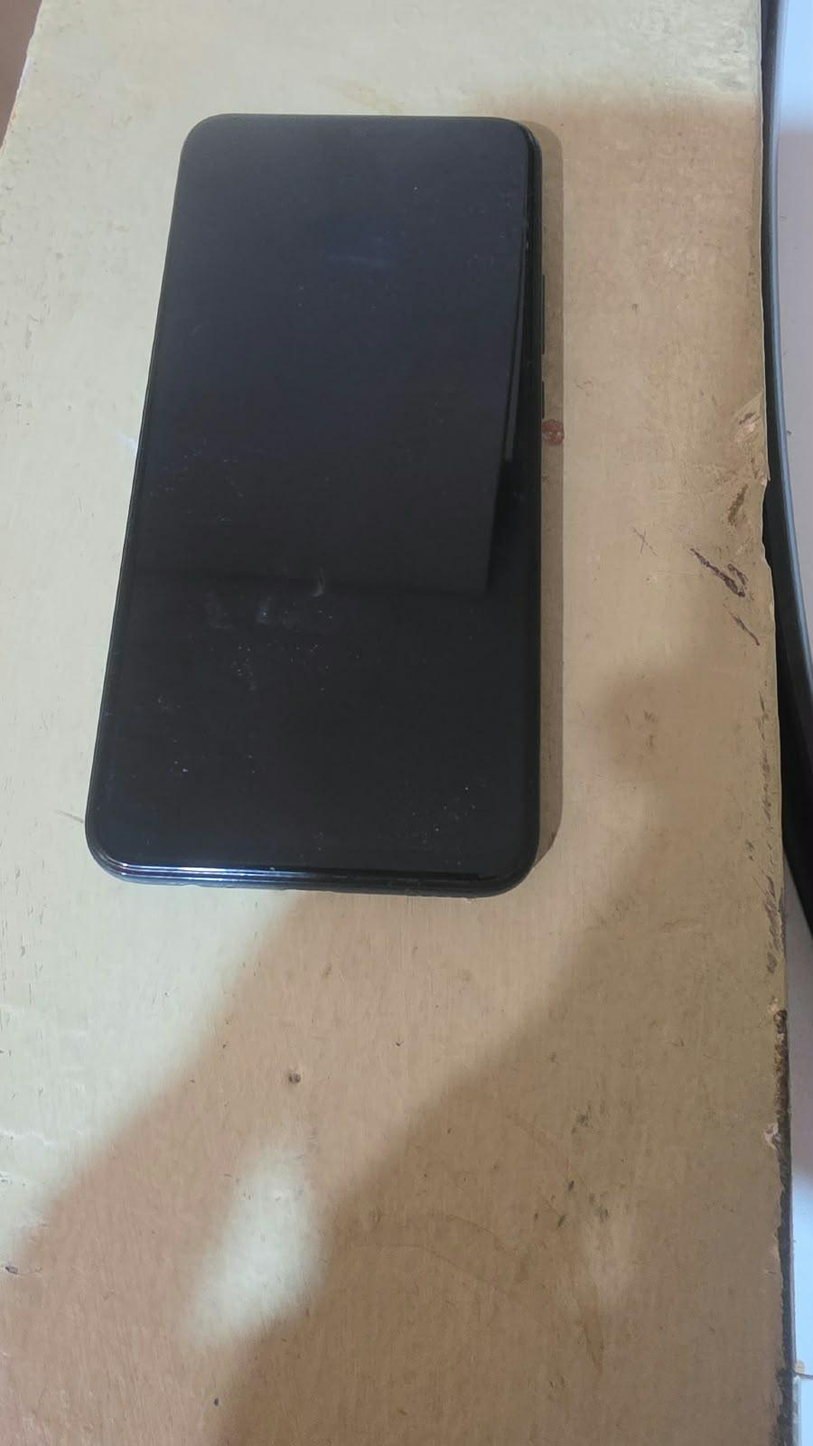smartphone: (85, 113, 545, 898)
